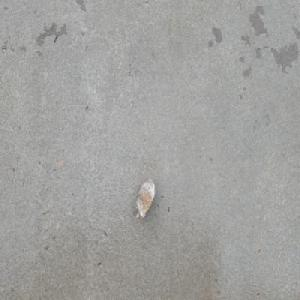Rock: (135, 175, 155, 220)
